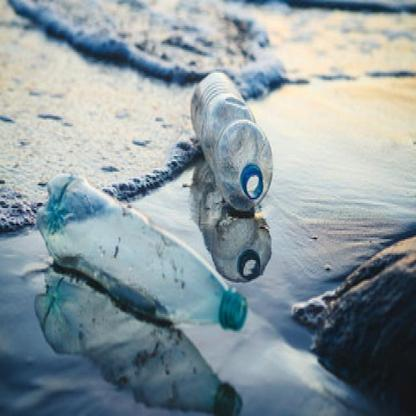plastic bottle: (38, 175, 247, 331), (191, 72, 274, 209)
